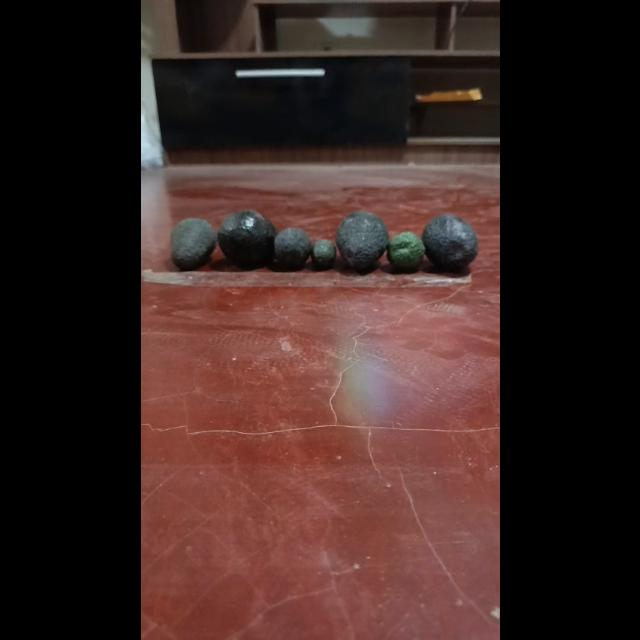Primera: (222, 200, 292, 286)
